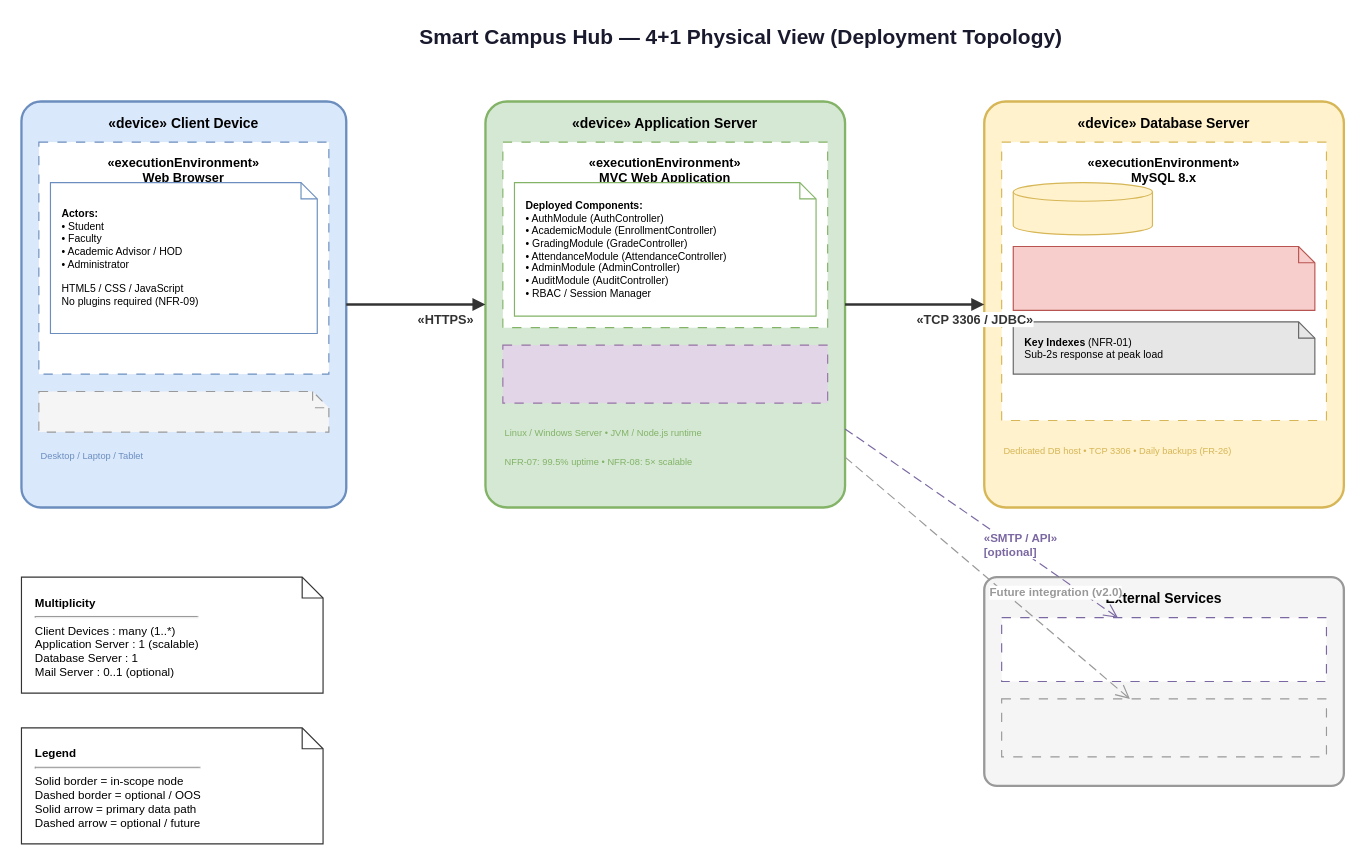
Image size: 1364x864. Some labels were removed from this diagram. The shapes that lost their labels are listed below. From the top down, each one's centre as x and y in pixels, then its label:
the point at 1082,208: 10 Core Tables
the point at 1163,277: DB Triggers (NFR-06) Audit log on grades/attendance Future-date rejection
the point at 665,373: «executionEnvironment» Scheduler / Cron (FR-23–FR-26)
the point at 183,411: • Finance Officer (OUT OF SCOPE — v2.0)
the point at 1163,649: «device» [optional] Mail / SMTP Server (FR-24 alerts, FR-27 password reset)
the point at 1163,727: «device» FinanceModule Server (OUT OF SCOPE — v2.0)
